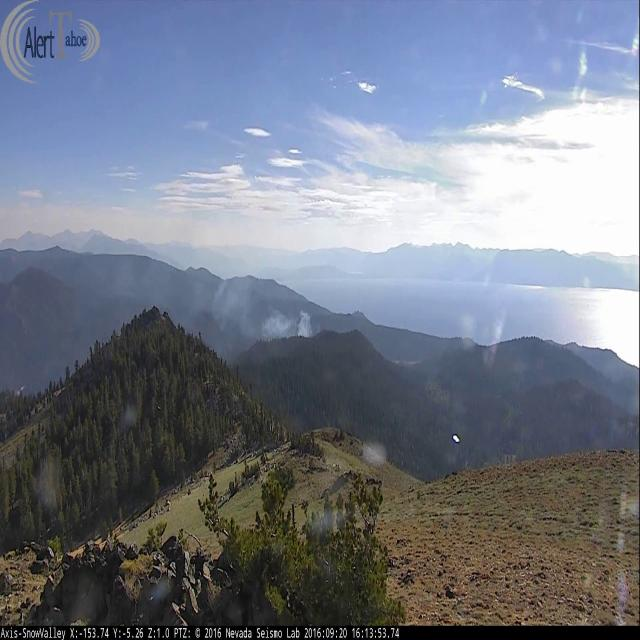smoke: (0, 260, 211, 394), (204, 266, 323, 350)
